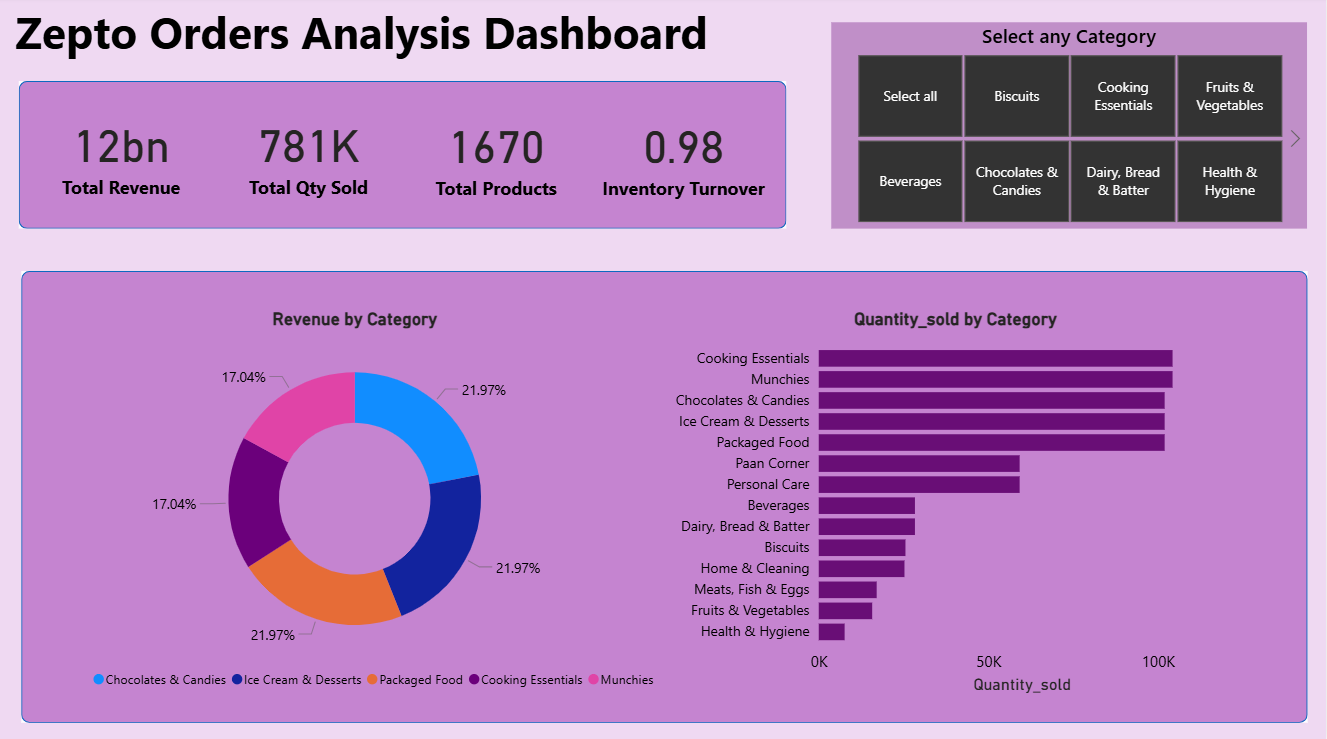

What the dashboard file says about the page in this screenshot:
{"tool":"powerbi","page":{"name":"Page 1","canvas":[1280,720],"ordinal":0},"visuals":[{"type":"shape","box":[20,265.1,1241.5,436.2],"z":0},{"type":"shape","box":[17.8,82.3,741,142.7],"z":1000},{"type":"textbox","box":[9.6,0,694.3,83.7],"z":2000},{"type":"card","fields":{"Values":["zepto.Total Revenue"]},"box":[26.1,102.9,181.1,98.8],"z":3000},{"type":"card","fields":{"Values":["zepto.Total Qty Sold"]},"box":[207.2,102.9,181.1,98.8],"z":4000},{"type":"card","fields":{"Values":["zepto.Category Count"]},"box":[388.3,102.9,181.1,100.2],"z":5000},{"type":"donutChart","fields":{"Category":["zepto.Category"],"Y":["Sum(zepto.Revenue)"]},"box":[44.2,302.2,595.8,376.3],"z":6000},{"type":"card","fields":{"Values":["zepto.Inventory Turnover"]},"box":[569.5,102.9,181.1,100.2],"z":7000},{"type":"clusteredBarChart","fields":{"Y":["Sum(zepto.Quantity_sold)"],"Category":["zepto.Category"]},"box":[640,302.2,565.9,376.3],"z":8000},{"type":"slicer","title":"Select any Category","fields":{"Values":["zepto.Category"]},"box":[802.5,25.7,459,199.6],"z":9000}]}

Visuals, with their boxes in screenshot pixels (x1, y1, x2, y2), scaled from the page's 1280x720 canvas onto the 1327x739 screenshot:
shape: <box>21,272,1308,720</box>
shape: <box>18,84,787,231</box>
textbox: <box>10,0,730,86</box>
card - zepto.Total Revenue: <box>27,106,215,207</box>
card - zepto.Total Qty Sold: <box>215,106,403,207</box>
card - zepto.Category Count: <box>403,106,590,208</box>
donutChart - zepto.Category x Sum(zepto.Revenue): <box>46,310,664,696</box>
card - zepto.Inventory Turnover: <box>590,106,778,208</box>
clusteredBarChart - Sum(zepto.Quantity_sold) x zepto.Category: <box>664,310,1250,696</box>
"Select any Category" slicer: <box>832,26,1308,231</box>
